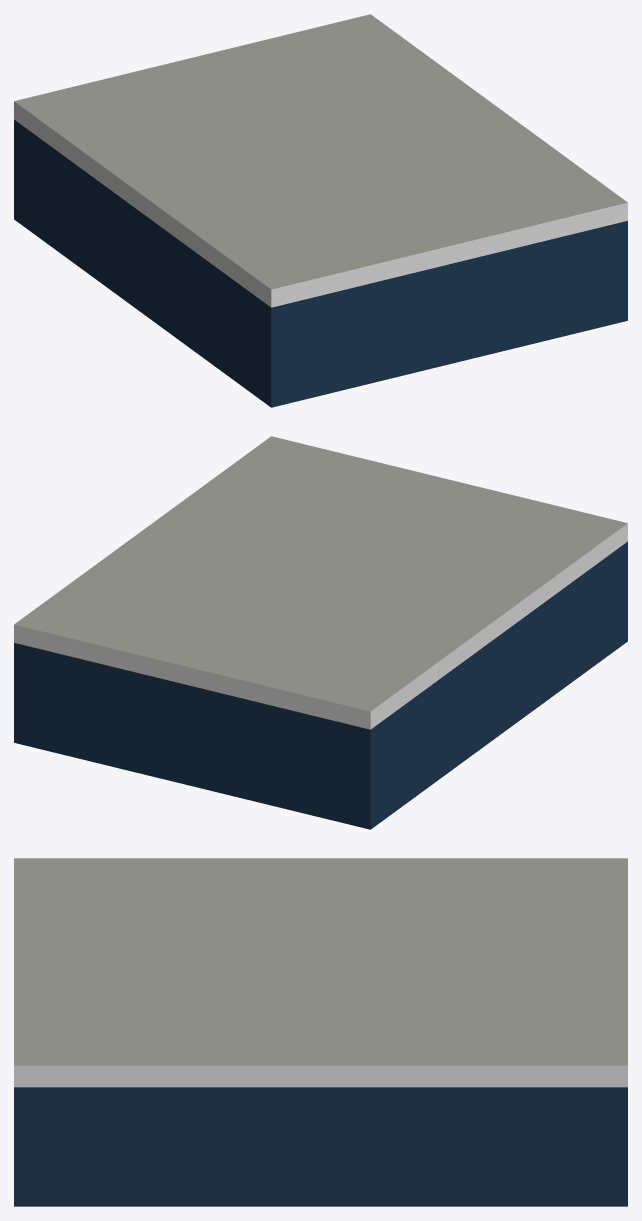
File: far.fbx
3 views of the same model, one above another, from view 1: azimuth 30°, elevation 25°; view 2: azimuth 150°, elevation 25°; view 3: azimuth 270°, elevation 25° (orthographic). The views are drawn at different scales.
Visible parts, largest first — view 1: a2002/400/far; view 2: a2002/400/far; view 3: a2002/400/far.
Boxes of the visible parts, box(x1,y1,x2,y2) form: a2002/400/far: box(14, 14, 627, 407); a2002/400/far: box(14, 436, 627, 829); a2002/400/far: box(14, 858, 627, 1206).
Bounding box in the file's own units: 12 × 3.8 × 15.
